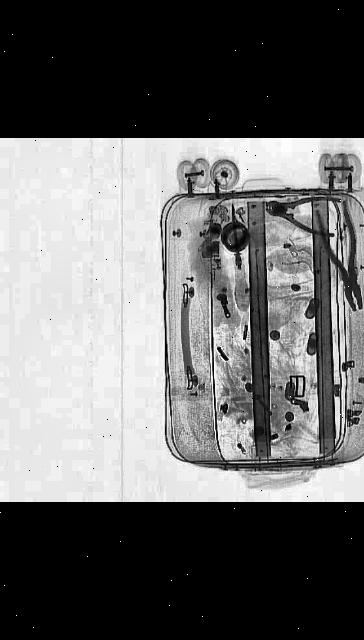Pliers: (312, 207, 364, 313), (256, 188, 346, 238)
